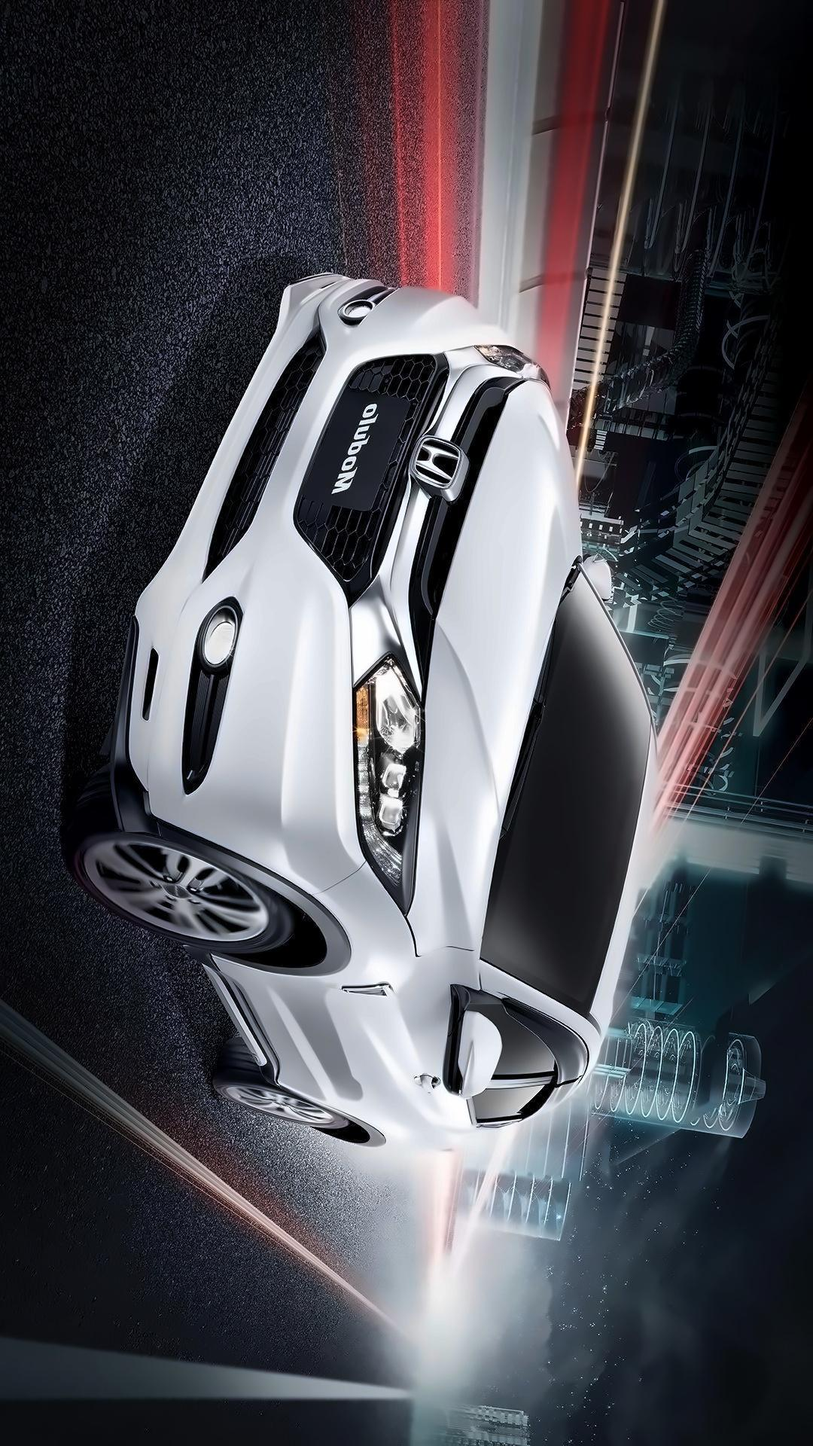Car hood: (406, 374, 597, 977)
Fender - -F-L-: (207, 861, 511, 987)
Front bumper: (112, 254, 492, 899)
Headlight - -L-: (347, 645, 435, 925)
Headlight - -R-: (470, 339, 553, 385)
Passenger-s door - -F-L-: (159, 947, 629, 1075)
Passenger-s door - -R-L-: (234, 1037, 629, 1133)
Side bumper - -L-: (181, 934, 317, 1097)
Side mirror - -L-: (439, 977, 504, 1104)
Side mirror - -R-: (557, 543, 632, 609)
